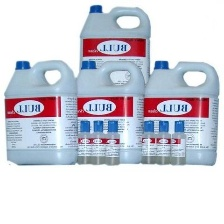cleaning_solution: (140, 56, 221, 169), (0, 57, 79, 167), (69, 56, 146, 167), (76, 2, 153, 101), (87, 119, 108, 166), (74, 118, 93, 167), (104, 117, 123, 166), (169, 119, 188, 166), (155, 118, 172, 166), (140, 119, 157, 165)
